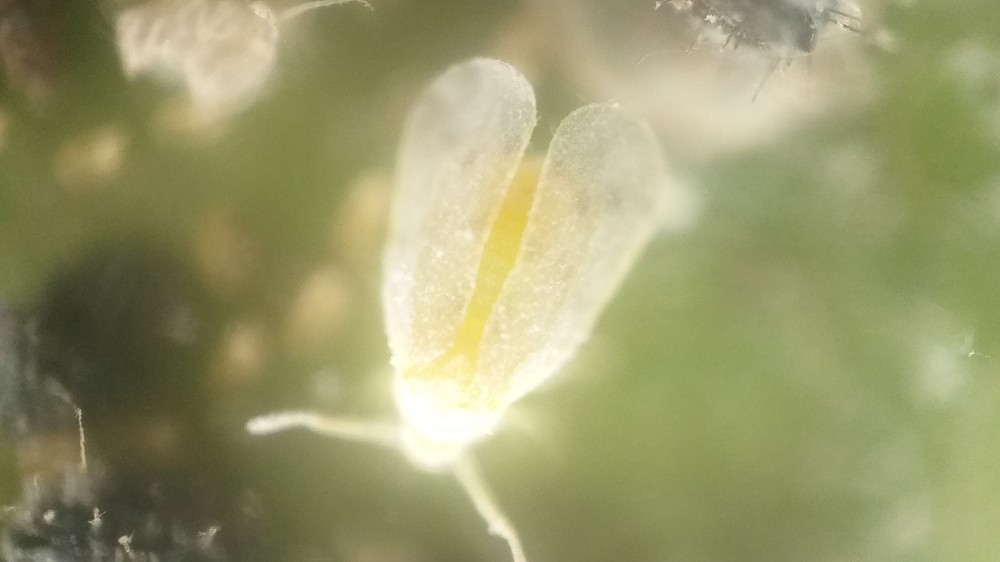Mosca Blanca: (242, 51, 699, 562)
